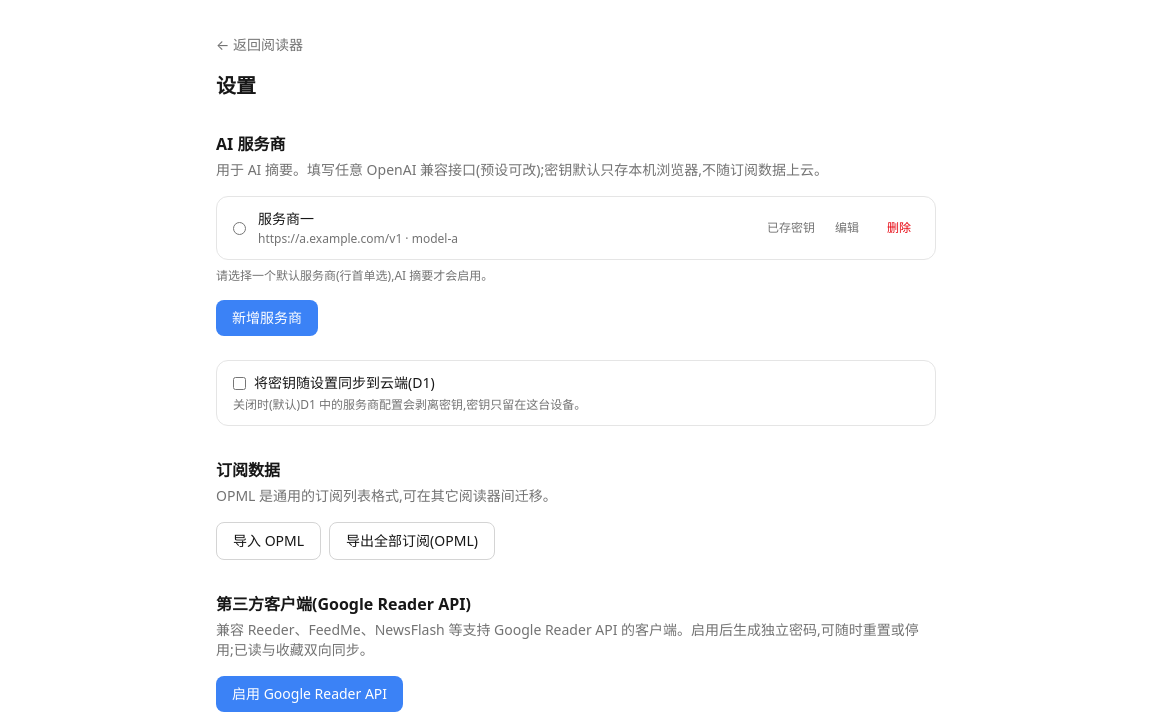
Test: Settings 挂载 › 编辑:data-provider-edit 改 model 保存 → 行内文本更新且不新增
The image size is (1152, 720).
Click the button "编辑". click: (847, 228)
box: top-left (827, 216), bottom-right (867, 240)
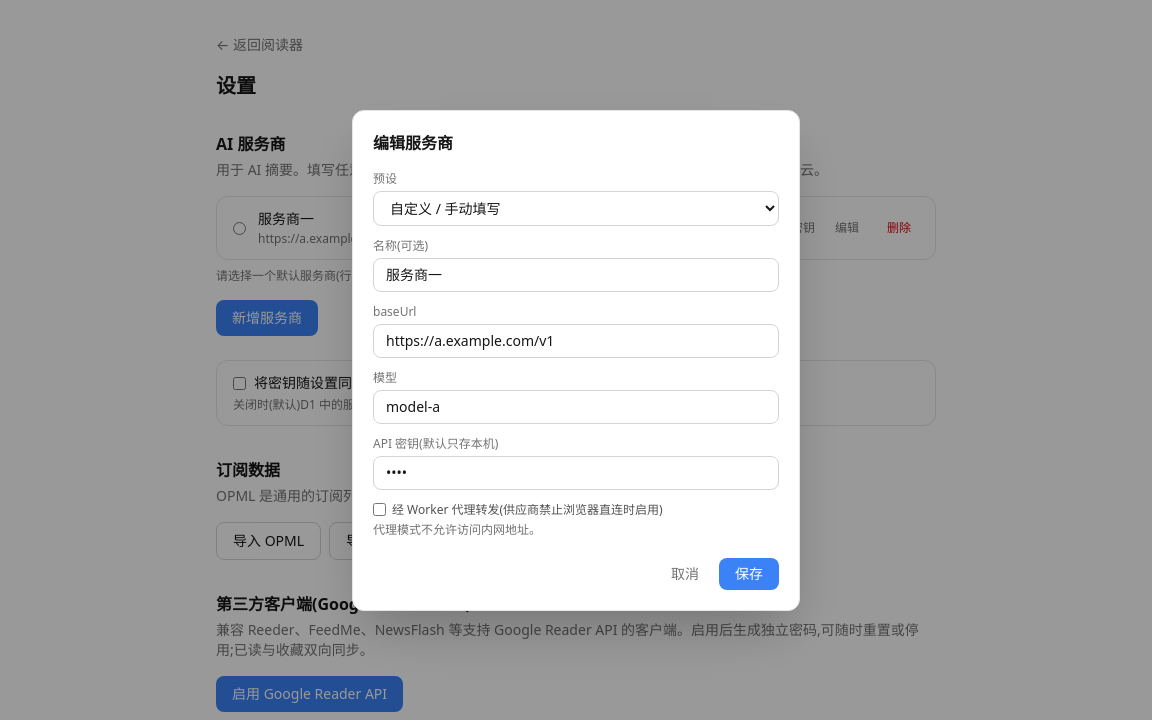
Check: the field labelled "模型" holds "model-a"
Replace the text in the field labelled "模型" with "updated-model". click: (576, 406)
box: top-left (373, 390), bottom-right (779, 424)
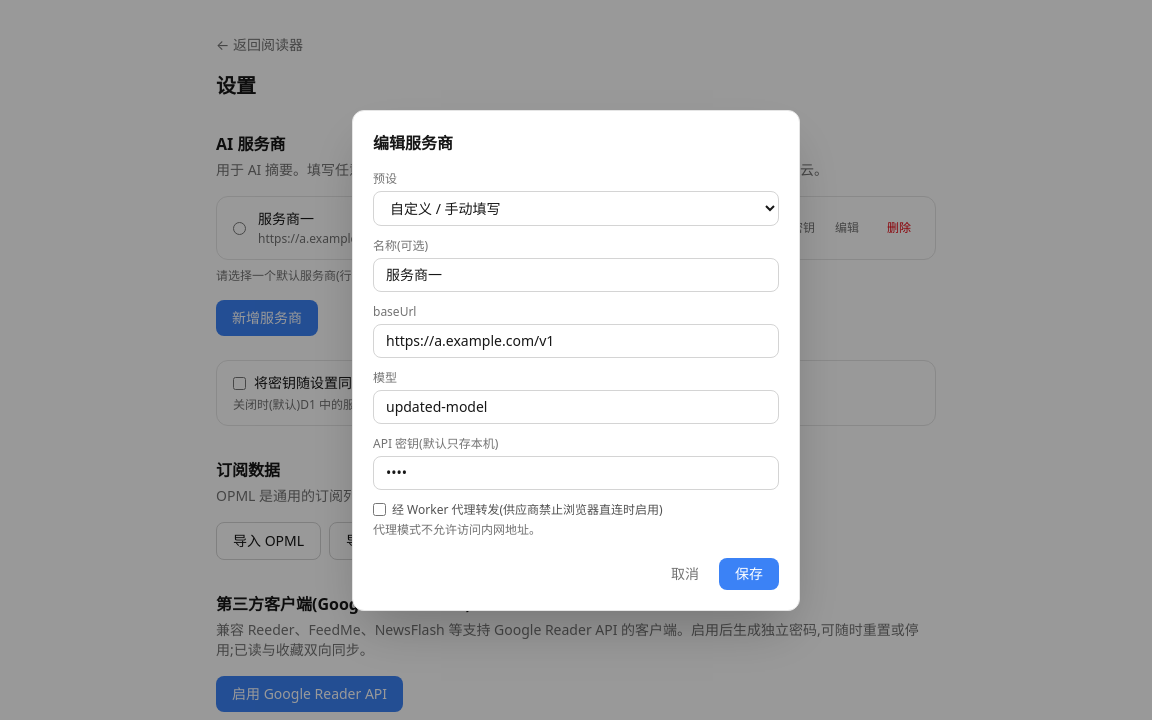
Click the button "保存". click: (749, 574)
box: top-left (719, 558), bottom-right (779, 590)
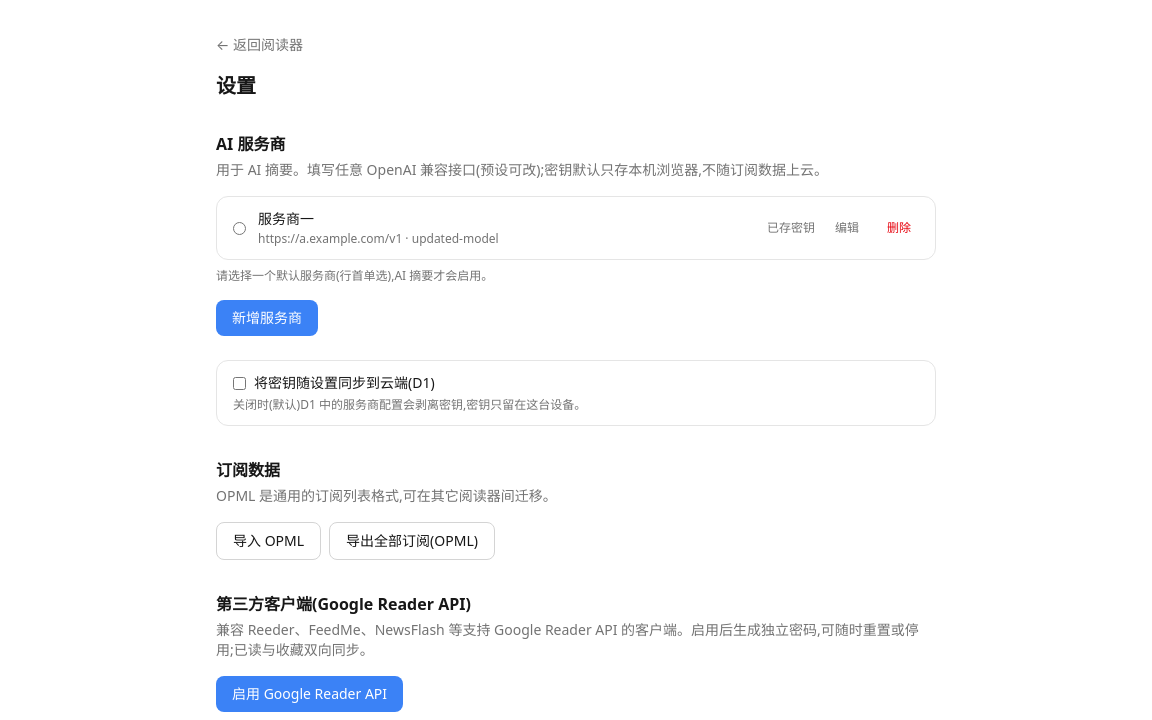
Check: the element showing "服务商一 https://a.example.com/v1 · updated-model 已存密钥 编辑 删除" is shown, box top-left (216, 196), bottom-right (936, 260)
